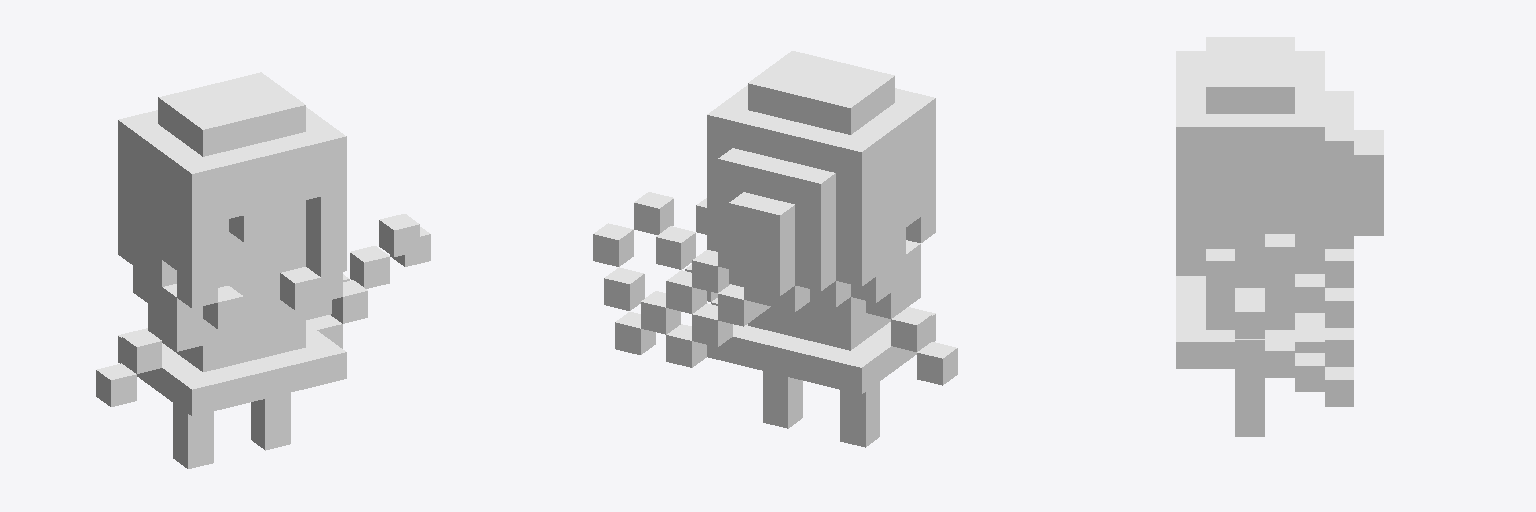
The model's file is chr_knight_1.obj.
3 views of the same model, side by side, from view 1: azimuth 30°, elevation 25°; view 2: azimuth 150°, elevation 25°; view 3: azimuth 270°, elevation 25° (orthographic).
Parts seen in each view (by area): view 1: object 1; view 2: object 1; view 3: object 1.
Part boxes in pixels (bbox=[...]): object 1: bbox=[96, 72, 430, 468]; object 1: bbox=[593, 51, 957, 447]; object 1: bbox=[1176, 37, 1383, 436].
Size of the model in its own units: 1.3 by 1.3 by 0.7.